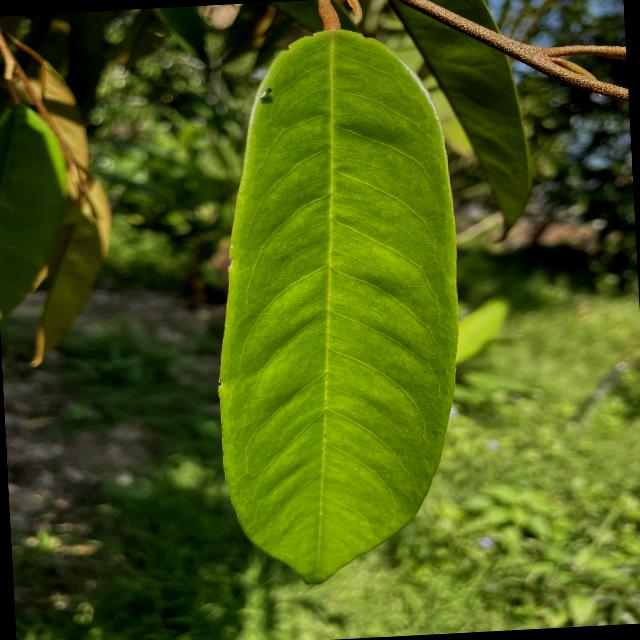No Disease: (178, 14, 488, 604)
